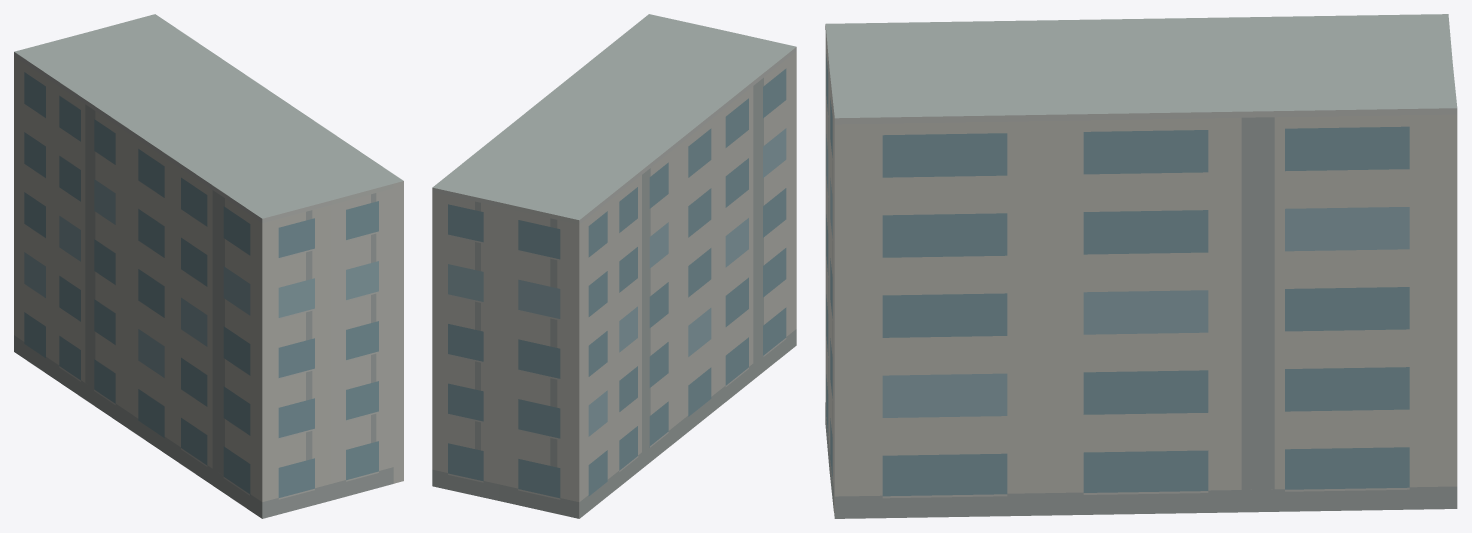
Rendered from survey-upis-33029942.glb.
The picture shows the model from 3 angles, left to right: view 1: azimuth 30°, elevation 25°; view 2: azimuth 150°, elevation 25°; view 3: azimuth 270°, elevation 25°; orthographic projection. The views are drawn at different scales.
Parts seen in each view (by area): view 1: survey-upis-33029942.tmp; view 2: survey-upis-33029942.tmp; view 3: survey-upis-33029942.tmp.
Part boxes in pixels (x1,y1,x2,y2): survey-upis-33029942.tmp: (14, 14, 403, 518); survey-upis-33029942.tmp: (432, 14, 796, 518); survey-upis-33029942.tmp: (825, 14, 1457, 518).
Bounding box in the file's own units: 8.99 × 16.1 × 23.02.
